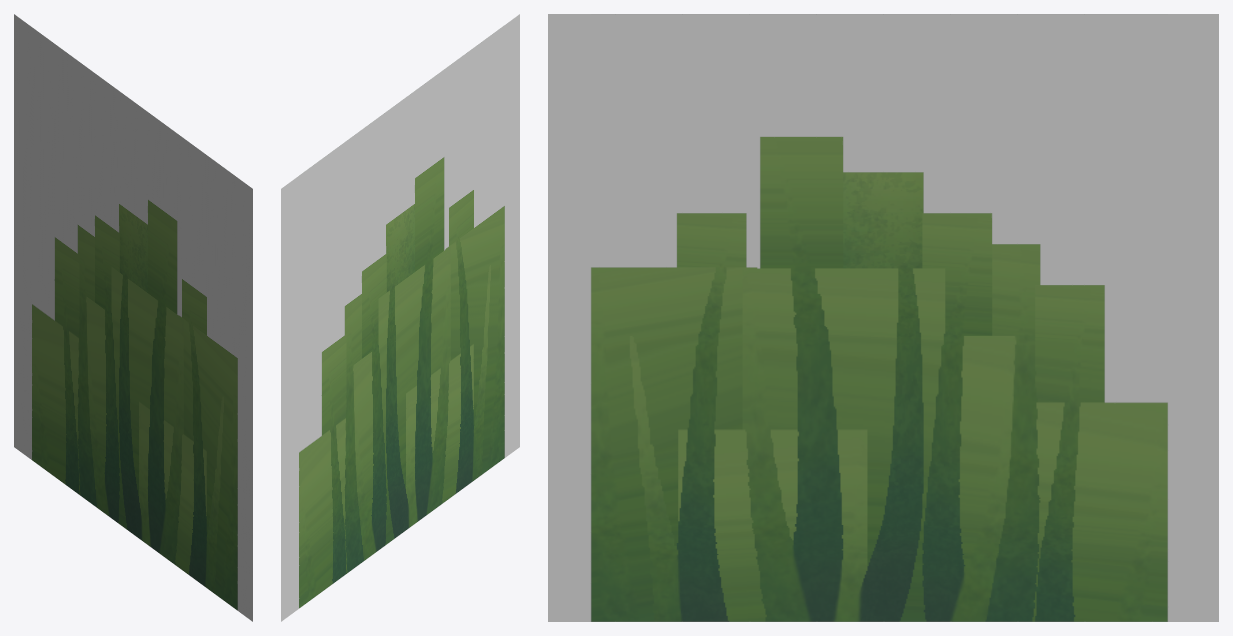
Rendered from GrassPlane.fbx.
3 views of the same model, side by side, from view 1: azimuth 30°, elevation 25°; view 2: azimuth 150°, elevation 25°; view 3: azimuth 270°, elevation 25° (orthographic). The views are drawn at different scales.
Visible parts, largest first — view 1: pPlane2; view 2: pPlane2; view 3: pPlane2.
Part boxes in pixels (bbox=[...]): pPlane2: bbox=[14, 14, 252, 621]; pPlane2: bbox=[281, 14, 519, 621]; pPlane2: bbox=[548, 14, 1218, 621].
Size of the model in its own units: 2.79e-15 by 1 by 1.
